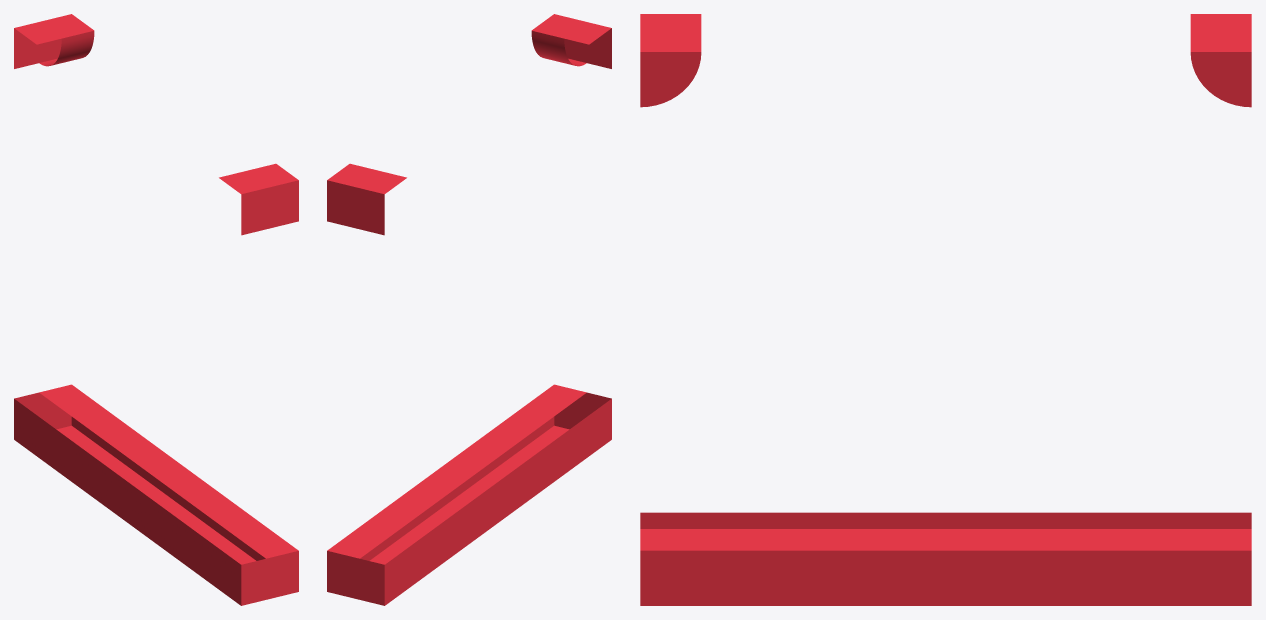
The model's file is SplitT (Wall).fbx.
The picture shows the model from 3 angles, left to right: view 1: azimuth 30°, elevation 25°; view 2: azimuth 150°, elevation 25°; view 3: azimuth 270°, elevation 25°; orthographic projection. The views are drawn at different scales.
Visible parts, largest first — view 1: splitT001; view 2: splitT001; view 3: splitT001.
Boxes of the visible parts, <box> form: splitT001: <box>14,14,298,605</box>; splitT001: <box>327,14,611,605</box>; splitT001: <box>640,14,1251,605</box>.
Bounding box in the file's own units: 5.77 × 39.37 × 39.37.
